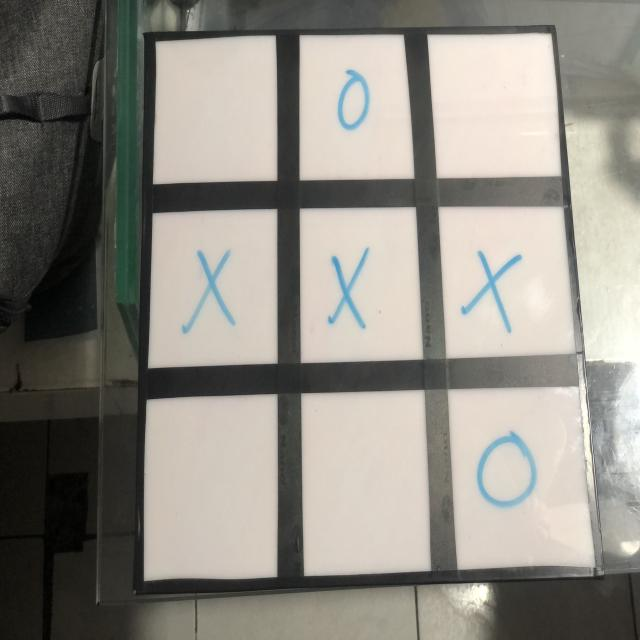null: (299, 389, 433, 578), (143, 394, 278, 579), (427, 30, 561, 186), (149, 36, 278, 186)
o: (477, 432, 539, 511), (334, 65, 373, 136)
table: (112, 19, 607, 593)
x: (460, 247, 525, 333), (178, 249, 235, 332), (330, 249, 367, 325)
